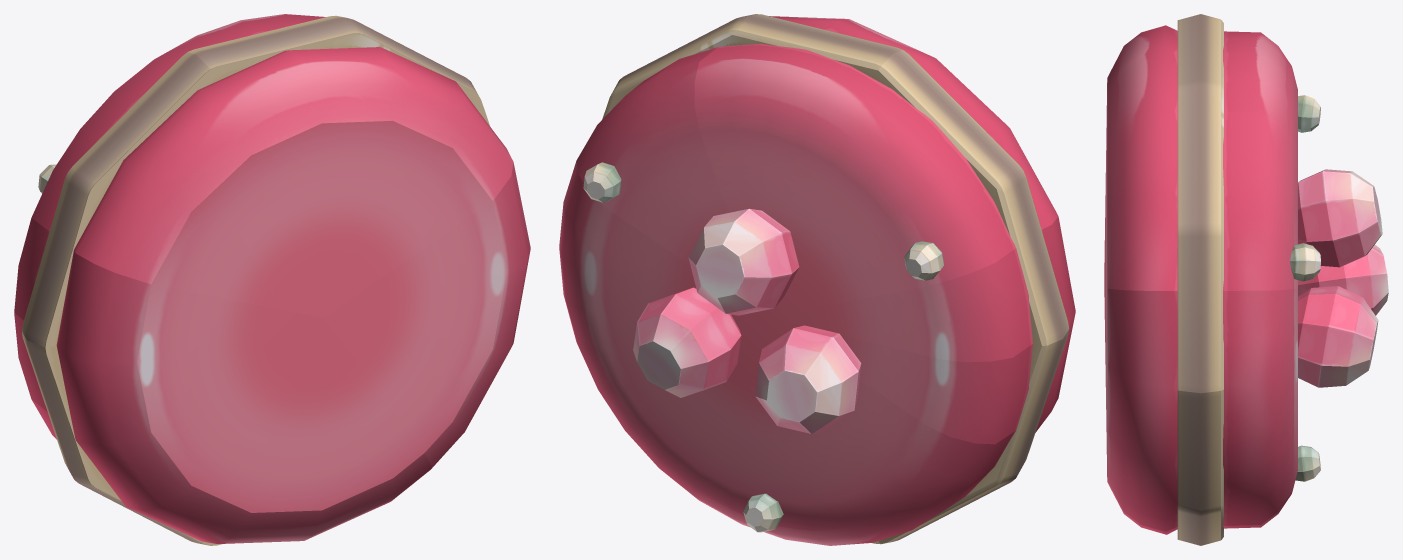
Rendered from Donut01_piece.fbx.
3 renders of one model, left to right at view 1: azimuth 30°, elevation 25°; view 2: azimuth 150°, elevation 25°; view 3: azimuth 270°, elevation 25°, orthographic. The views are drawn at different scales.
Parts seen in each view (by area): view 1: polySurface310, polySurface309, polySurface306, polySurface303, polySurface329, polySurface283, polySurface295, polySurface279; view 2: polySurface283, polySurface328, polySurface266, polySurface279, polySurface303, polySurface311, polySurface322, polySurface320, polySurface329, polySurface310, polySurface295, polySurface309 (+3 smaller); view 3: polySurface328, polySurface310, polySurface329, polySurface306, polySurface292, polySurface320, polySurface311, polySurface283, polySurface322, polySurface323, polySurface327, polySurface325.
Boxes of the visible parts, x1,y1,x2,y2 form: polySurface310: [74, 47, 513, 317]; polySurface309: [56, 250, 431, 543]; polySurface306: [324, 162, 530, 467]; polySurface303: [22, 52, 214, 347]; polySurface329: [188, 15, 489, 125]; polySurface283: [31, 14, 325, 231]; polySurface295: [22, 332, 211, 545]; polySurface279: [14, 218, 49, 411]; polySurface283: [694, 43, 1015, 316]; polySurface328: [559, 47, 766, 466]; polySurface266: [657, 317, 1015, 545]; polySurface279: [766, 248, 1032, 444]; polySurface303: [875, 50, 1069, 345]; polySurface311: [688, 208, 799, 315]; polySurface322: [755, 325, 861, 433]; polySurface320: [633, 287, 741, 397]; polySurface329: [602, 14, 903, 118]; polySurface310: [769, 16, 1058, 229]; polySurface295: [878, 329, 1068, 543]; polySurface309: [1035, 217, 1075, 432]; polySurface328: [1223, 112, 1297, 525]; polySurface310: [1104, 25, 1177, 290]; polySurface329: [1177, 14, 1223, 393]; polySurface306: [1104, 281, 1177, 531]; polySurface292: [1177, 389, 1223, 545]; polySurface320: [1298, 286, 1378, 387]; polySurface311: [1298, 169, 1382, 267]; polySurface283: [1223, 31, 1297, 150]; polySurface322: [1298, 245, 1388, 315]; polySurface323: [1290, 243, 1320, 281]; polySurface327: [1298, 95, 1320, 132]; polySurface325: [1295, 445, 1320, 481].
Size of the model in its own units: 588 by 562 by 312.
